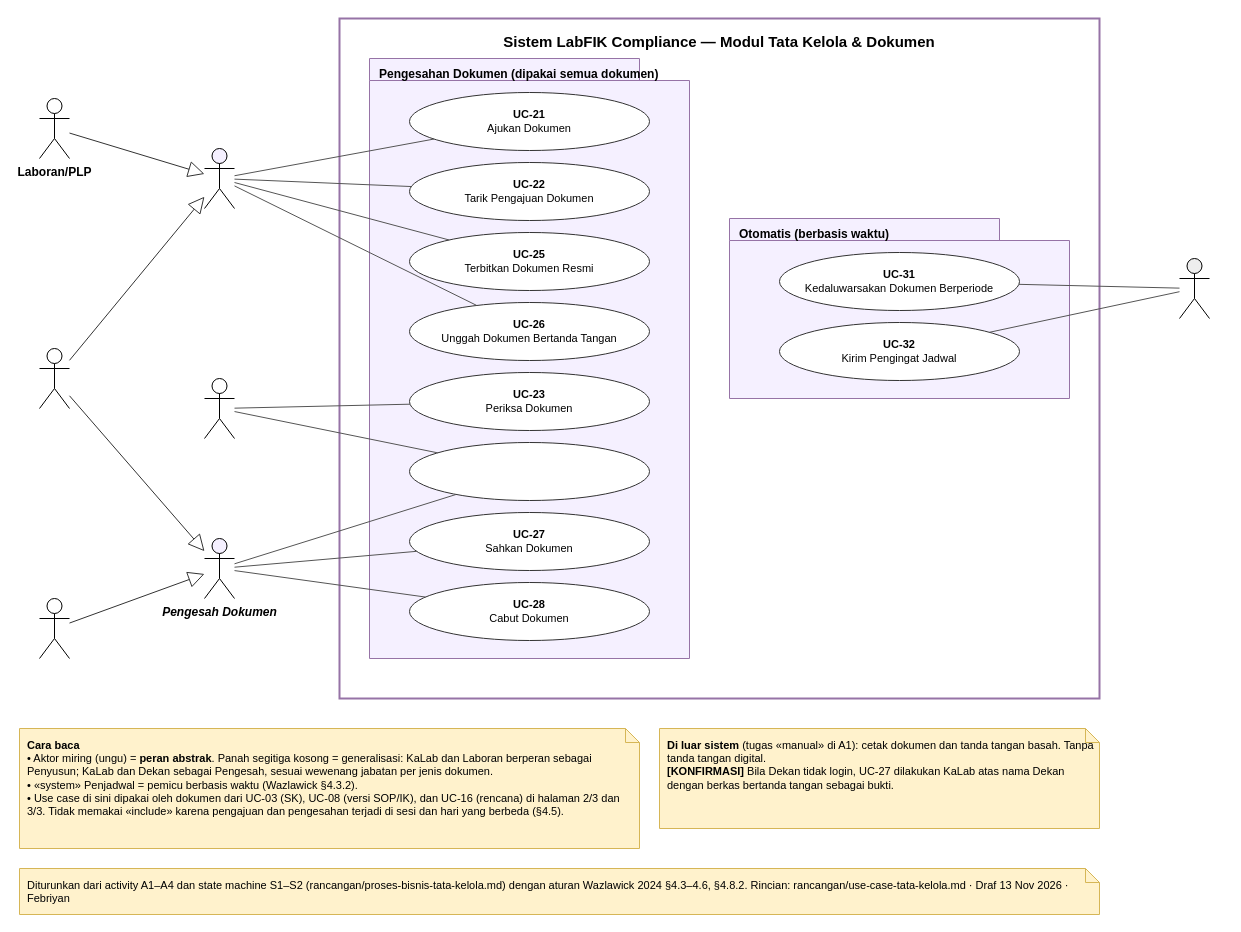
This 1241x932 diagram has some shape labels left out. Here are the shapes that lost their labels. From the top down, the centre of each, then its label:
At pixel 219 178: "Penyusun Dokumen".
At pixel 1194 288: "«system» Penjadwal".
At pixel 54 378: "KaLab".
At pixel 219 408: "Pemeriksa".
At pixel 529 471: "UC-24 Kembalikan Dokumen".
At pixel 54 628: "Dekan".
